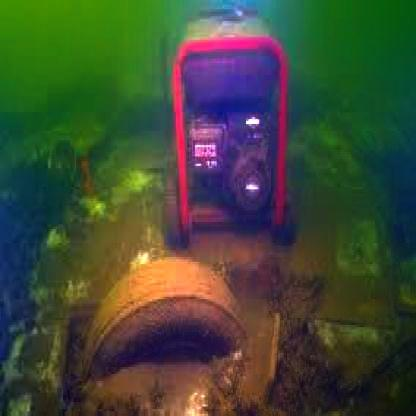misc: (172, 20, 294, 245)
